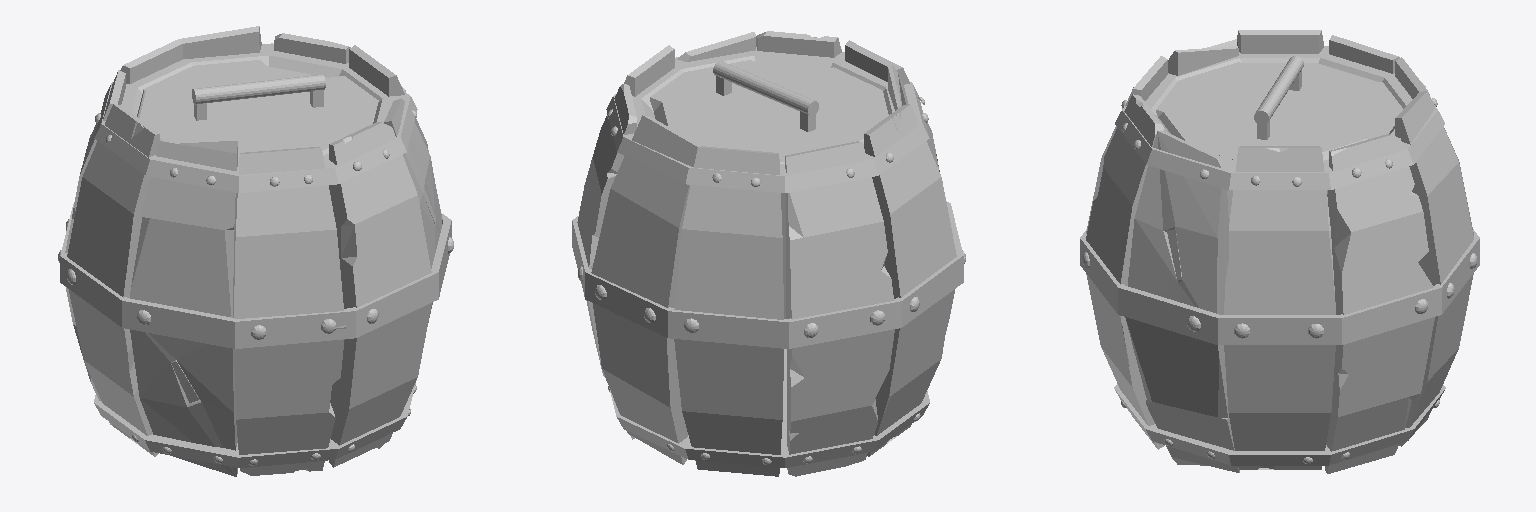
File: TrashTactics_Barrel_Texture_Ready.obj
3 renders of one model, left to right at view 1: azimuth 30°, elevation 25°; view 2: azimuth 150°, elevation 25°; view 3: azimuth 270°, elevation 25°, orthographic.
Visible parts, largest first — view 1: Barrel_Planks polySurface23, polySurface22 Barrel_Planks, Barrel_Planks polySurface9, polySurface20 polySurface4 polySurface2 pCylinder1, Barrel_Lid pCylinder5, Barrel_Supports pCylinder4, pCylinder2 Barrel_Supports, Barrel_Supports pCylinder3, Barrel_Planks polySurface7, Barrel_Lid pCylinder8, Barrel_Planks polySurface1, Nail_01_Barrel (+4 smaller); view 2: Barrel_Planks polySurface17, polySurface2 pCylinder1 polySurface21, Barrel_Planks polySurface1, polySurface20 polySurface4 polySurface2 pCylinder1, Barrel_Lid pCylinder5, Barrel_Supports pCylinder4, pCylinder2 Barrel_Supports, Barrel_Supports pCylinder3, polySurface2 pCylinder1 polySurface3, Barrel_Planks polySurface9, Barrel_Lid pCylinder8, Nail_01_Barrel (+4 smaller); view 3: polySurface4 polySurface2 pCylinder1 polySurface5, polySurface2 pCylinder1 polySurface3, Barrel_Planks polySurface7, Barrel_Lid pCylinder5, Barrel_Supports pCylinder4, Barrel_Planks polySurface1, Barrel_Planks polySurface9, pCylinder2 Barrel_Supports, Barrel_Supports pCylinder3, polySurface20 polySurface4 polySurface2 pCylinder1, Nail_01_Barrel, polySurface22 Barrel_Planks (+4 smaller).
Boxes of the visible parts, x1,y1,x2,y2 form: Barrel_Planks polySurface23: [234, 147, 345, 475]; polySurface22 Barrel_Planks: [130, 141, 237, 476]; Barrel_Planks polySurface9: [329, 122, 431, 467]; polySurface20 polySurface4 polySurface2 pCylinder1: [67, 104, 159, 456]; Barrel_Lid pCylinder5: [137, 60, 378, 162]; Barrel_Supports pCylinder4: [60, 204, 451, 348]; pCylinder2 Barrel_Supports: [94, 43, 417, 192]; Barrel_Supports pCylinder3: [94, 380, 416, 467]; Barrel_Planks polySurface7: [377, 98, 442, 448]; Barrel_Lid pCylinder8: [192, 74, 325, 104]; Barrel_Planks polySurface1: [179, 26, 261, 58]; Nail_01_Barrel: [58, 87, 453, 465]; Barrel_Planks polySurface17: [674, 146, 783, 476]; polySurface2 pCylinder1 polySurface21: [785, 141, 894, 476]; Barrel_Planks polySurface1: [591, 115, 700, 464]; polySurface20 polySurface4 polySurface2 pCylinder1: [864, 104, 956, 456]; Barrel_Lid pCylinder5: [650, 60, 888, 163]; Barrel_Supports pCylinder4: [572, 201, 963, 348]; pCylinder2 Barrel_Supports: [606, 47, 929, 192]; Barrel_Supports pCylinder3: [609, 349, 929, 467]; polySurface2 pCylinder1 polySurface3: [577, 84, 636, 439]; Barrel_Planks polySurface9: [756, 31, 841, 318]; Barrel_Lid pCylinder8: [713, 61, 818, 115]; Nail_01_Barrel: [578, 97, 965, 464]; polySurface4 polySurface2 pCylinder1 polySurface5: [1224, 146, 1335, 469]; polySurface2 pCylinder1 polySurface3: [1325, 134, 1434, 473]; Barrel_Planks polySurface7: [1125, 131, 1239, 472]; Barrel_Lid pCylinder5: [1156, 62, 1402, 160]; Barrel_Supports pCylinder4: [1080, 229, 1479, 344]; Barrel_Planks polySurface1: [1395, 90, 1473, 446]; Barrel_Planks polySurface9: [1086, 94, 1164, 449]; pCylinder2 Barrel_Supports: [1115, 46, 1444, 189]; Barrel_Supports pCylinder3: [1114, 384, 1445, 465]; polySurface20 polySurface4 polySurface2 pCylinder1: [1237, 30, 1327, 193]; Nail_01_Barrel: [1082, 83, 1476, 463]; polySurface22 Barrel_Planks: [1168, 39, 1238, 222].
Size of the model in its own units: 121 by 119 by 124.